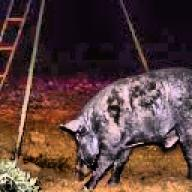boar: (57, 64, 192, 192)
